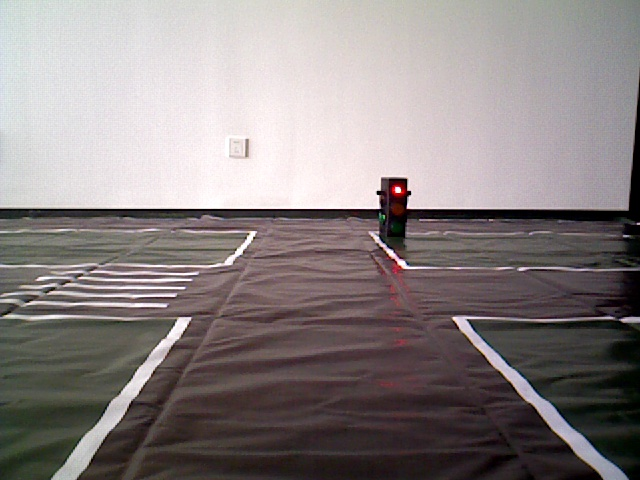red: (378, 181, 406, 238)
